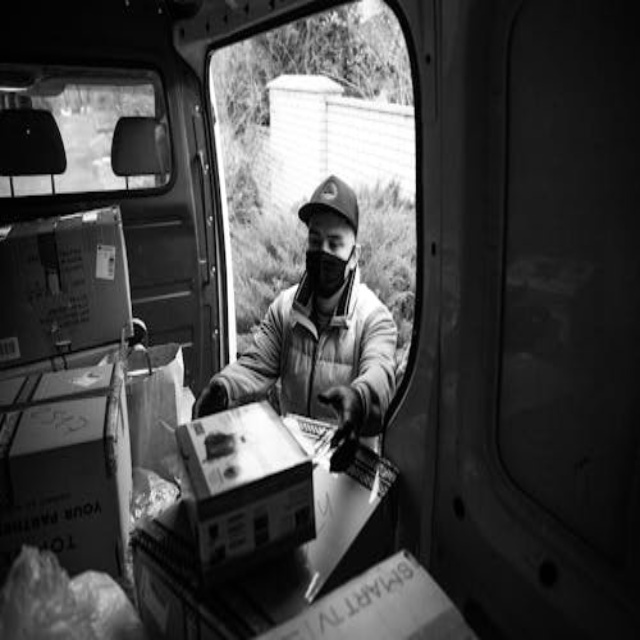Guantes: (312, 376, 367, 471)
Mascara: (305, 244, 352, 296)
Sin_gafas: (306, 232, 355, 258)
